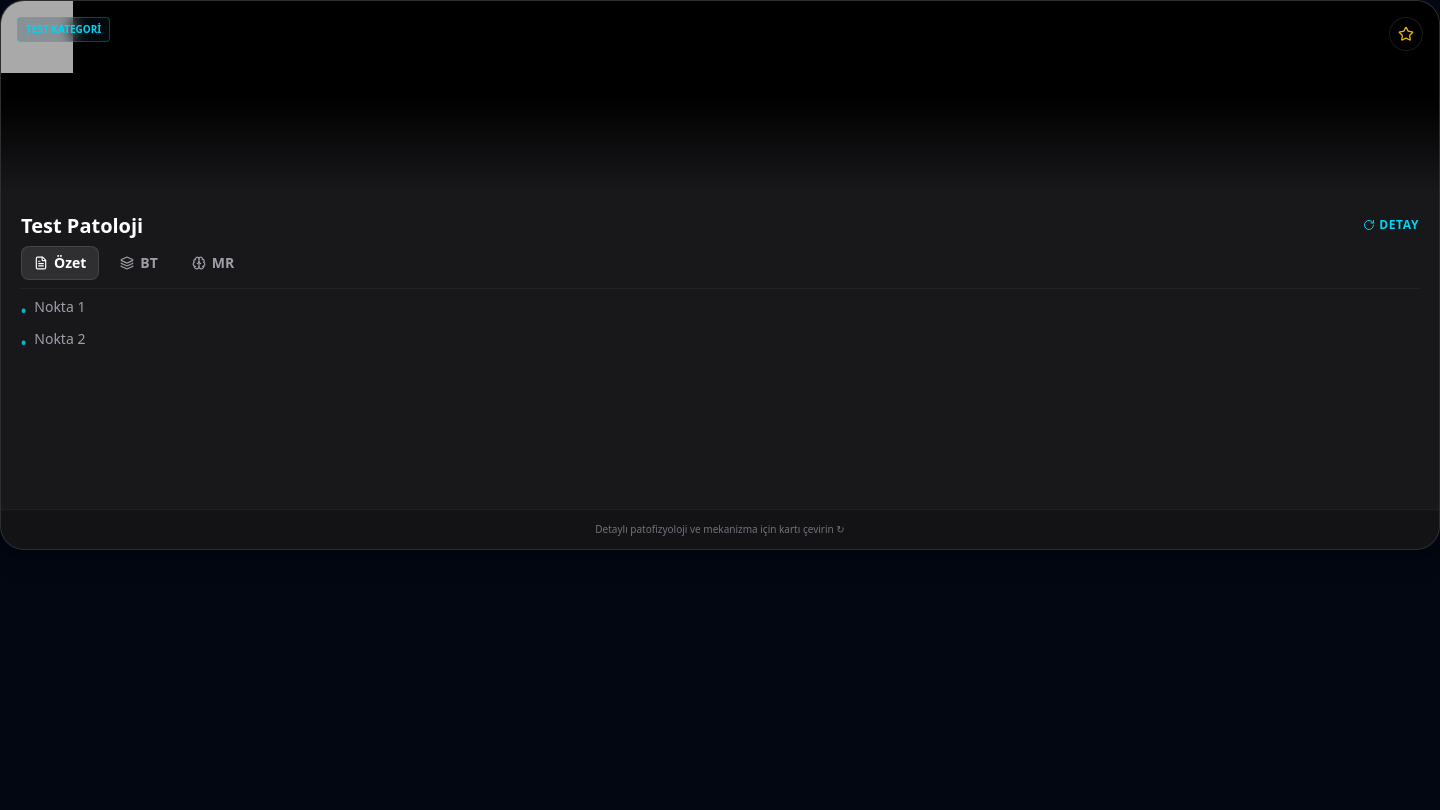
Test: PathologyCard › should show differential diagnosis on back face after flip
The width and height of the screenshot is (1440, 810).
// Find and click the flip button (Detay text)
Click the button "Detay".
click(1391, 225)  # box [1363,213,1419,237]
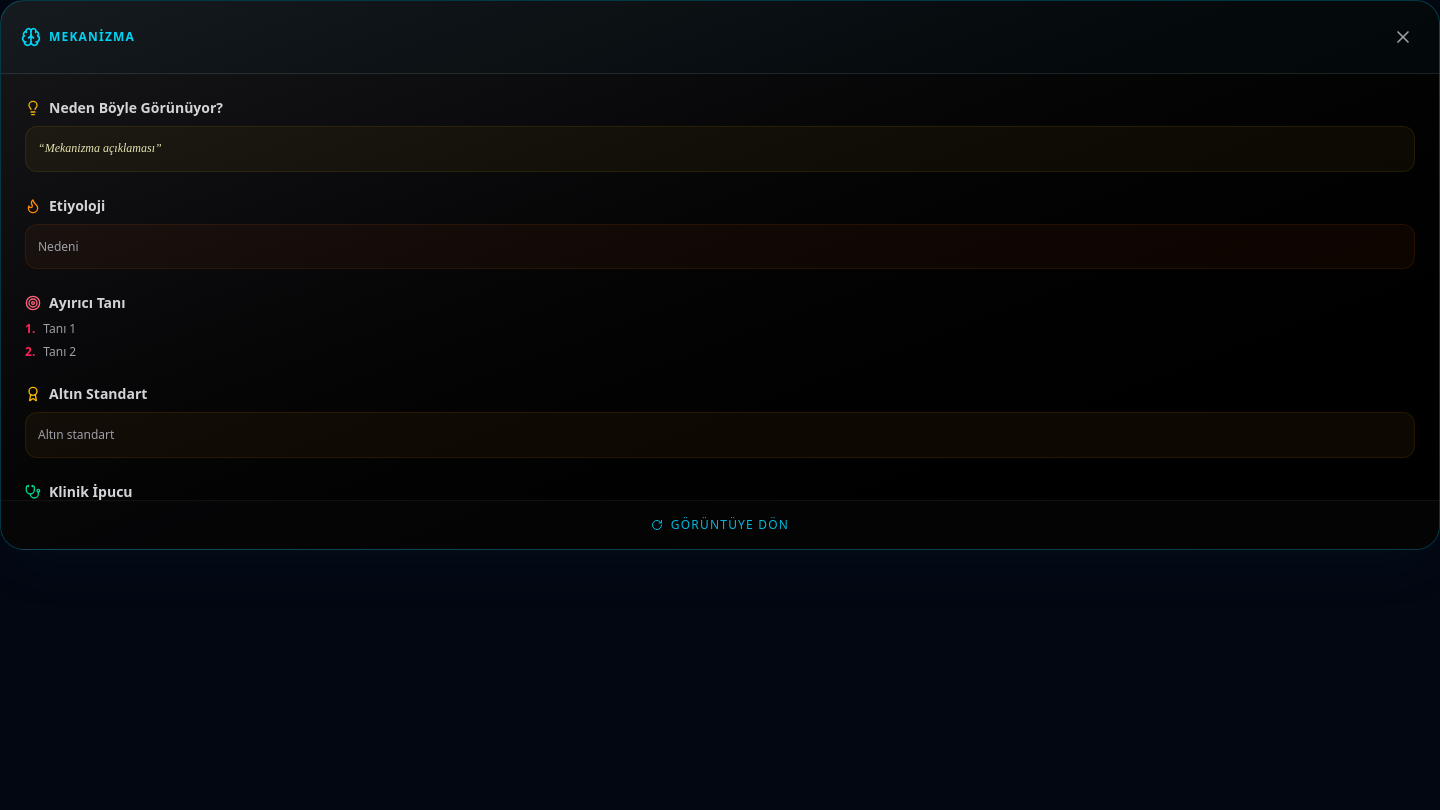
Expected: the text "Tanı 1" is shown, [43,321,76,338]
Expected: the text "Tanı 2" is shown, [43,344,76,360]
